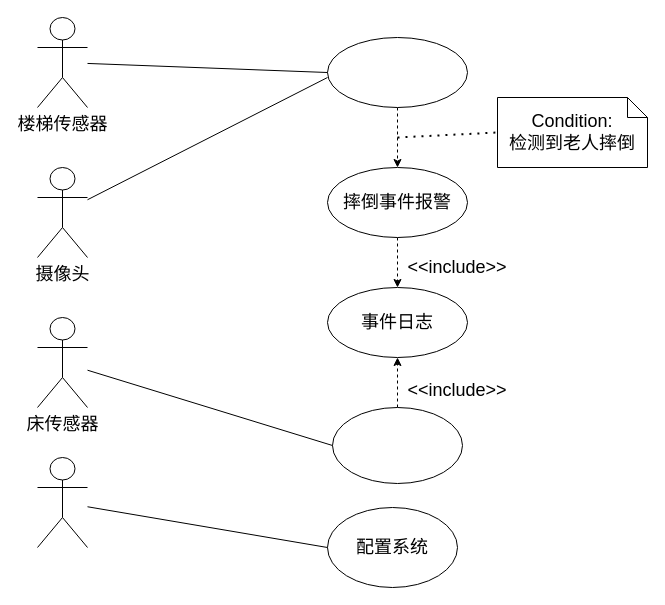
This 665x605 diagram has some shape labels left out. Each missing label, with the box of its shape:
床传感器检测: (332, 406, 462, 484)
摔倒动作检测: (326, 36, 468, 108)
系统管理员: (36, 456, 88, 548)
